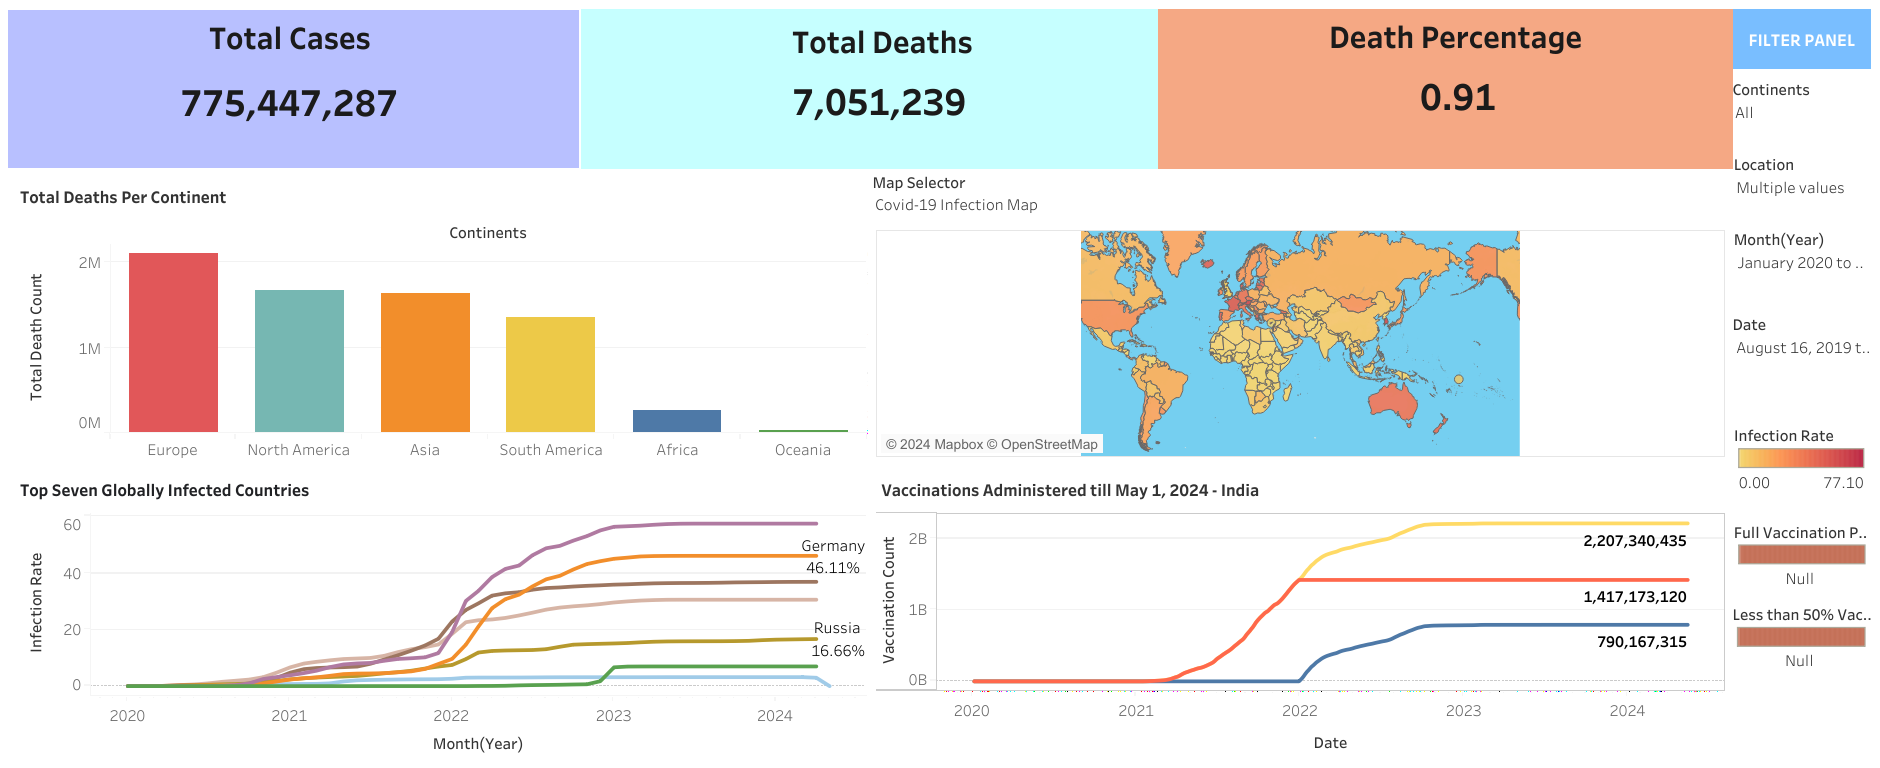

This screenshot's page, from the dashboard's own definition file:
{"tool":"tableau","page":{"name":"Dashboard 2","canvas":[1000,1000],"units":"permille","ordinal":1},"visuals":[{"type":"blank","box":[308.7,10.7,306.9,208.8]},{"type":"blank","box":[615.6,10.7,305.1,208.8]},{"type":"text","box":[920.7,10.7,73.9,79]},{"type":"blank","box":[4.2,13.4,303.3,204.8]},{"type":"text","box":[94.2,13.4,119.8,68.3]},{"type":"text","box":[410.6,13.4,116.8,76.3]},{"type":"text","box":[694.7,13.4,166.5,68.3]},{"type":"text","box":[736,80.3,78.1,85.7]},{"type":"text","box":[77.4,83,151.1,95]},{"type":"text","box":[399.9,89.7,134.7,80.3]},{"type":"filter","title":"Sheet 2","param":"[federated.1wt1pql0g3v41a15z6jaz0rk241z].[none:location:nk]","box":[920.7,99.1,74.5,84.3]},{"type":"filter","title":"Sheet 4","param":"[federated.1t8ocvw10widse1bjurdl0y3q5hg].[none:location:nk]","box":[921.3,196.8,73.3,73.6]},{"type":"parameter","param":"[Parameters].[Parameter 1]","box":[463.7,219.5,455.3,73.6]},{"type":"worksheet","title":"Sheet 2","mark":"Automatic","rows":["TotalDeathCount"],"cols":["location"],"box":[4.9,220.6,457.6,384.2]},{"type":"worksheet","title":"Sheet 3","mark":"Automatic","box":[462.5,220.6,458.8,381.5]},{"type":"filter","title":"Sheet 4","param":"[federated.1t8ocvw10widse1bjurdl0y3q5hg].[tmn:date:qk]","box":[921.3,294.5,73.3,93.7]},{"type":"filter","title":"Sheet 7","param":"[federated.0exafp30veyme31d7q5lt0nsdvhd].[tdy:date:qk]","box":[920.7,405.6,74.5,95]},{"type":"legend","title":"Sheet 3","param":"[federated.0kp8ir50qrap6l1bernft1j6ppgl].[sum:Highest_Infection_Rate:qk]","box":[921.3,544.9,72.7,93.7]},{"type":"worksheet","title":"Sheet 5","mark":"Automatic","box":[462.5,602.2,458.8,1.3]},{"type":"worksheet","title":"Sheet 6","mark":"Automatic","box":[462.5,603.5,458.8,1.3]},{"type":"worksheet","title":"Sheet 4","mark":"Automatic","rows":["Highest_Infection_Rate"],"cols":["date"],"box":[4.9,604.8,457.6,384.4]},{"type":"worksheet","title":"Sheet 7","mark":"Automatic","rows":["Full_Vaccination_Count"],"cols":["date"],"box":[462.5,604.8,458.8,384.4]},{"type":"legend","title":"Sheet 6","param":"[federated.09ohljt1tntq451095iph1sn1p5h].[max:Full_Vaccination_Percentage:qk]","box":[921.3,670.7,73.3,100.4]},{"type":"legend","title":"Sheet 5","param":"[federated.09ohljt1tntq451095iph1sn1p5h].[max:Full_Vaccination_Percentage:qk]","box":[920.8,795.2,73.7,117.8]}]}

Visuals, with their boxes on the dashboard's canvas, which has no fixed pixel size, in thousandths of its width and height (x1, y1, x2, y2). These are canvas units, not pixel positions in the 1880x768 screenshot, which may show the page scaled, cropped or inside an application window:
blank: box=[309, 11, 616, 220]
blank: box=[616, 11, 921, 220]
text: box=[921, 11, 995, 90]
blank: box=[4, 13, 308, 218]
text: box=[94, 13, 214, 82]
text: box=[411, 13, 527, 90]
text: box=[695, 13, 861, 82]
text: box=[736, 80, 814, 166]
text: box=[77, 83, 228, 178]
text: box=[400, 90, 535, 170]
"Sheet 2" filter: box=[921, 99, 995, 183]
"Sheet 4" filter: box=[921, 197, 995, 270]
parameter: box=[464, 220, 919, 293]
"Sheet 2" worksheet: box=[5, 221, 462, 605]
"Sheet 3" worksheet: box=[462, 221, 921, 602]
"Sheet 4" filter: box=[921, 294, 995, 388]
"Sheet 7" filter: box=[921, 406, 995, 501]
"Sheet 3" legend: box=[921, 545, 994, 639]
"Sheet 5" worksheet: box=[462, 602, 921, 604]
"Sheet 6" worksheet: box=[462, 604, 921, 605]
"Sheet 4" worksheet: box=[5, 605, 462, 989]
"Sheet 7" worksheet: box=[462, 605, 921, 989]
"Sheet 6" legend: box=[921, 671, 995, 771]
"Sheet 5" legend: box=[921, 795, 994, 913]
